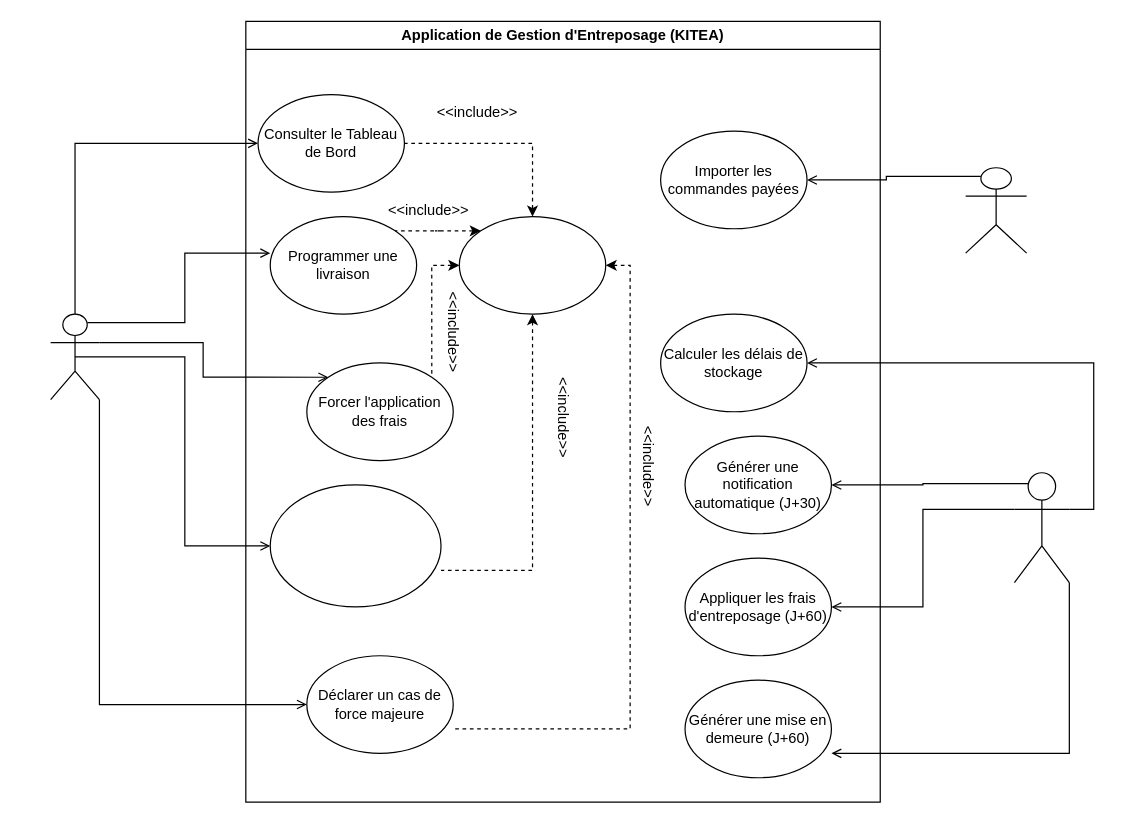
This 1130x824 diagram has some shape labels left out. The centre of each missing label's shape, as x and y in pixels:
"Agent Logistique" goes at pixel 74 356.
"Gérer une annulation de commande (Retard > 7 jours)" goes at pixel 355 545.
"S'Authentifier" goes at pixel 532 264.
"Système Automatisé" goes at pixel 1041 527.
"Système ERP AX" goes at pixel 995 210.
